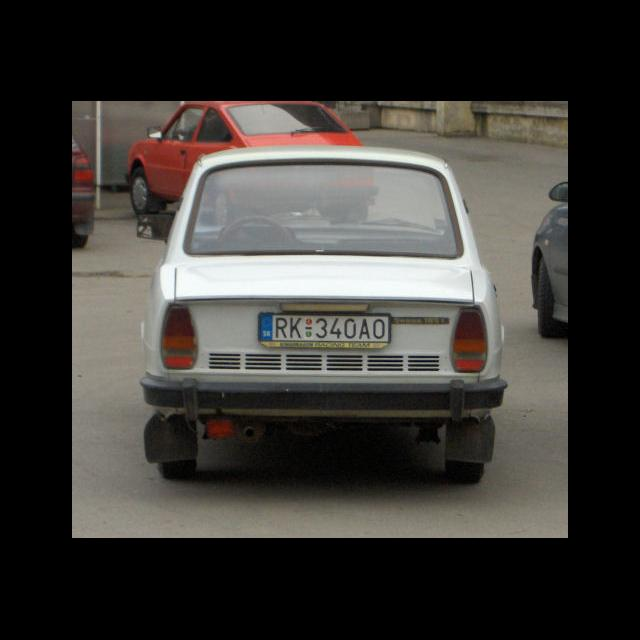Plate: (257, 310, 392, 346)
